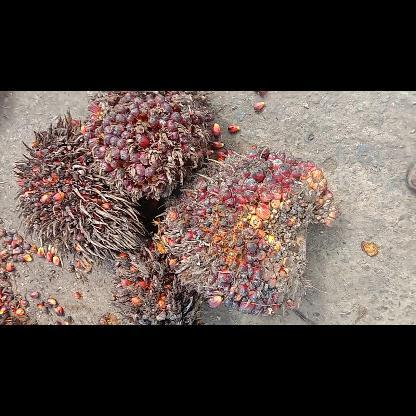TBS masak: (153, 147, 335, 313), (83, 91, 213, 201)
Terlalu masak: (13, 112, 145, 270), (112, 242, 202, 324)
